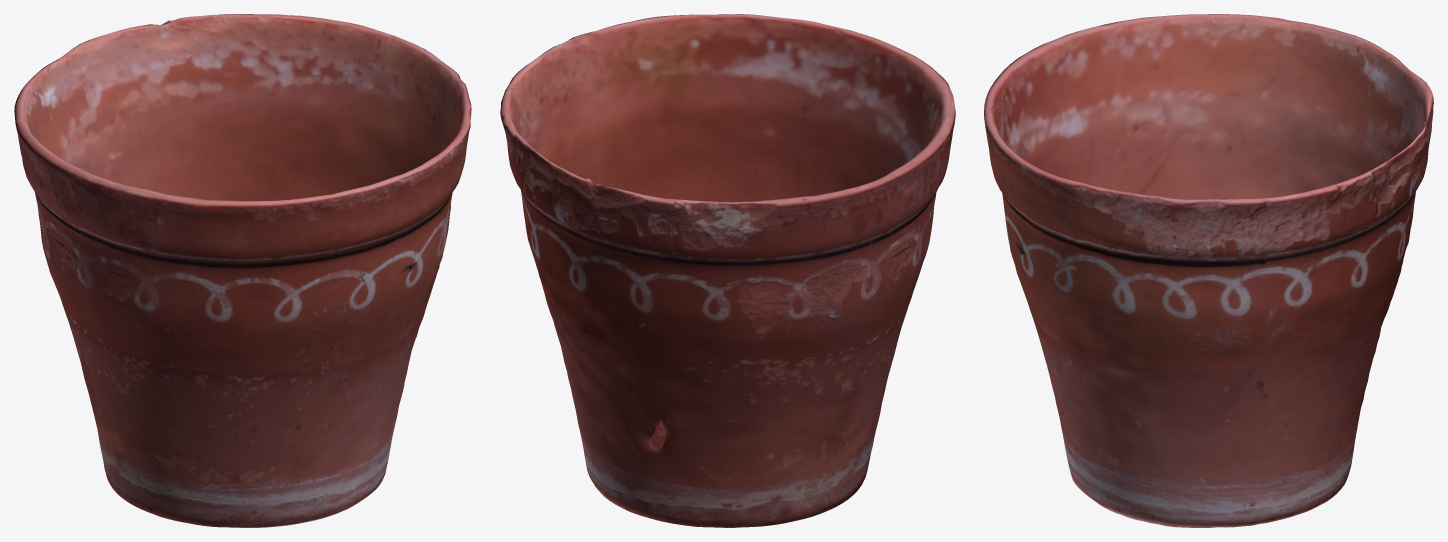
Rendered from mc-flower_pot.glb.
The picture shows the model from 3 angles, left to right: view 1: azimuth 30°, elevation 25°; view 2: azimuth 150°, elevation 25°; view 3: azimuth 270°, elevation 25°; orthographic projection.
Parts seen in each view (by area): view 1: Object_2; view 2: Object_2; view 3: Object_2.
Boxes of the visible parts, x1=… form: Object_2: x1=14, y1=14, x2=471, y2=527; Object_2: x1=500, y1=14, x2=955, y2=527; Object_2: x1=984, y1=14, x2=1433, y2=527.
Size of the model in its own units: 0.1736 by 0.1552 by 0.1722.
1 material, 1 textured.
